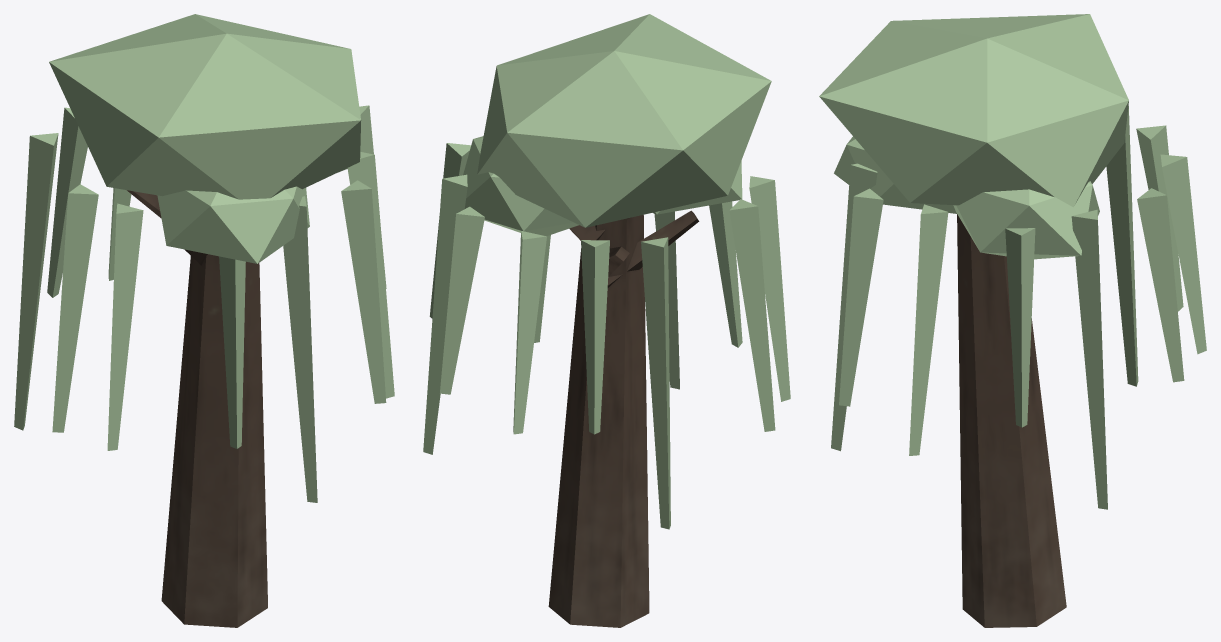
Rendered from arv_salgueiro_5.glb.
3 views of the same model, side by side, from view 1: azimuth 30°, elevation 25°; view 2: azimuth 150°, elevation 25°; view 3: azimuth 270°, elevation 25° (orthographic). The views are drawn at different scales.
Visible parts, largest first — view 1: arv_salgueiro_5; view 2: arv_salgueiro_5; view 3: arv_salgueiro_5.
Part boxes in pixels (x1,y1,x2,y2): arv_salgueiro_5: [14, 14, 394, 627]; arv_salgueiro_5: [423, 14, 790, 627]; arv_salgueiro_5: [819, 14, 1206, 627].
Size of the model in its own units: 0.9058 by 1.45 by 0.889.
Materials: 2 (1 with a texture image).
